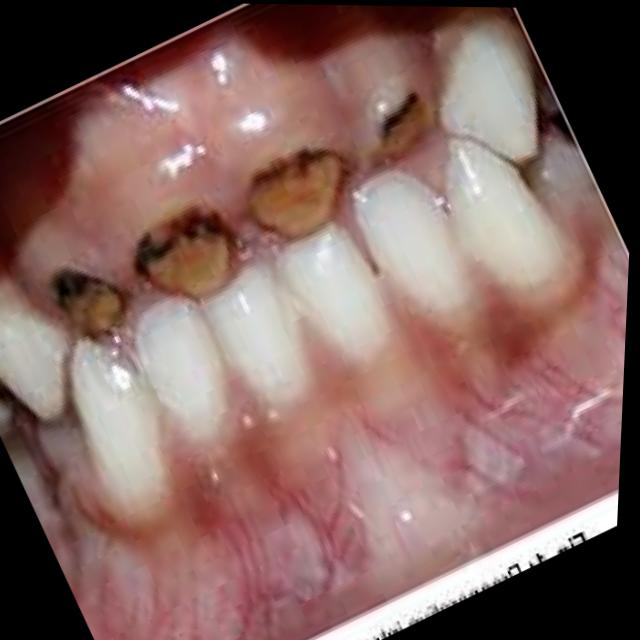cariess: (249, 149, 344, 235), (137, 212, 234, 288), (53, 268, 126, 335), (380, 92, 435, 153)
